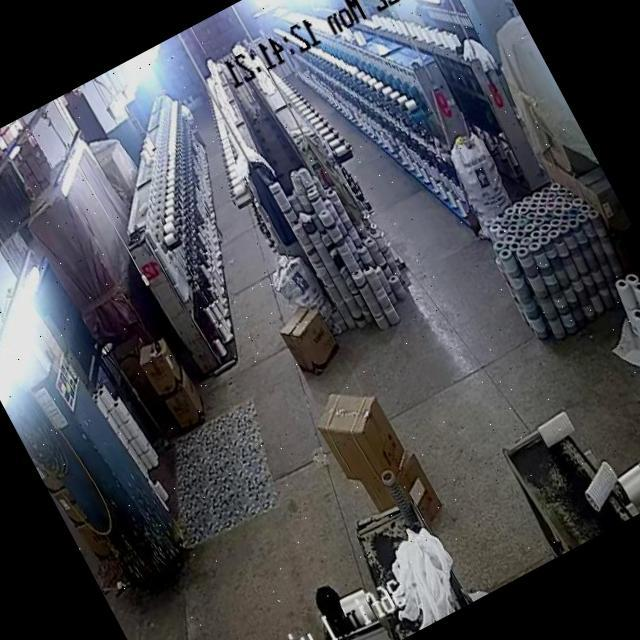person: (290, 577, 369, 640)
